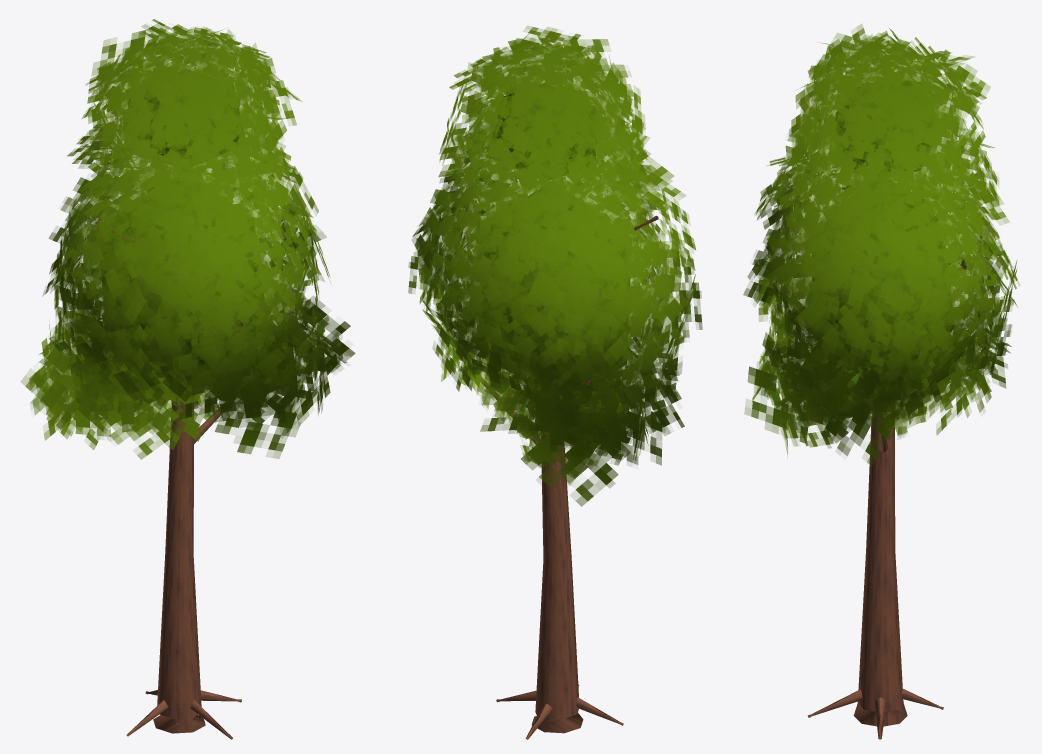
File: beech_tall.glb
The picture shows the model from 3 angles, left to right: view 1: azimuth 30°, elevation 25°; view 2: azimuth 150°, elevation 25°; view 3: azimuth 270°, elevation 25°; orthographic projection.
Visible parts, largest first — view 1: beech_tall_Leaf_Light, beech_tall_Bark_Gray, beech_tall_Core_Light; view 2: beech_tall_Leaf_Light, beech_tall_Bark_Gray, beech_tall_Core_Light; view 3: beech_tall_Leaf_Light, beech_tall_Bark_Gray, beech_tall_Core_Light.
Part boxes in pixels (x1=…): beech_tall_Leaf_Light: x1=21, y1=19, x2=355, y2=459; beech_tall_Bark_Gray: x1=95, y1=222, x2=242, y2=739; beech_tall_Core_Light: x1=71, y1=70, x2=296, y2=415; beech_tall_Leaf_Light: x1=408, y1=26, x2=702, y2=506; beech_tall_Bark_Gray: x1=481, y1=215, x2=658, y2=739; beech_tall_Core_Light: x1=481, y1=83, x2=630, y2=445; beech_tall_Leaf_Light: x1=743, y1=24, x2=1020, y2=465; beech_tall_Bark_Gray: x1=777, y1=265, x2=966, y2=739; beech_tall_Core_Light: x1=802, y1=81, x2=953, y2=418.
Bounding box in the file's own units: 5.91 × 13.57 × 5.23.
Materials: 3 (2 with a texture image).
